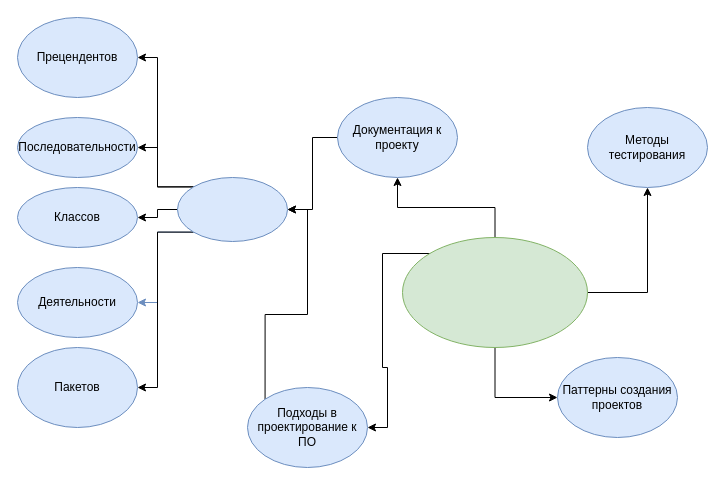
The diagram is 725 pixels wide and 485 high, and some of its shapes have lost their labels. Each missing label, with the box of its shape:
UML диаграмма: (176, 176, 288, 242)
Програмная инженерия: (402, 236, 588, 348)
